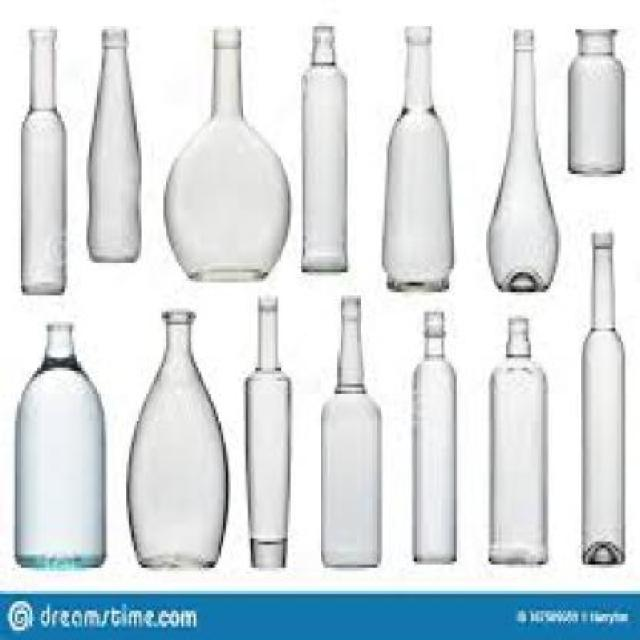kaca: (162, 26, 288, 279), (126, 308, 226, 562), (12, 322, 102, 564), (380, 23, 452, 289), (486, 26, 556, 289), (320, 292, 377, 565), (580, 229, 623, 562), (489, 316, 543, 562), (243, 293, 288, 562), (88, 27, 140, 255), (300, 20, 348, 266), (20, 26, 62, 292), (412, 310, 452, 558), (566, 26, 623, 174)
